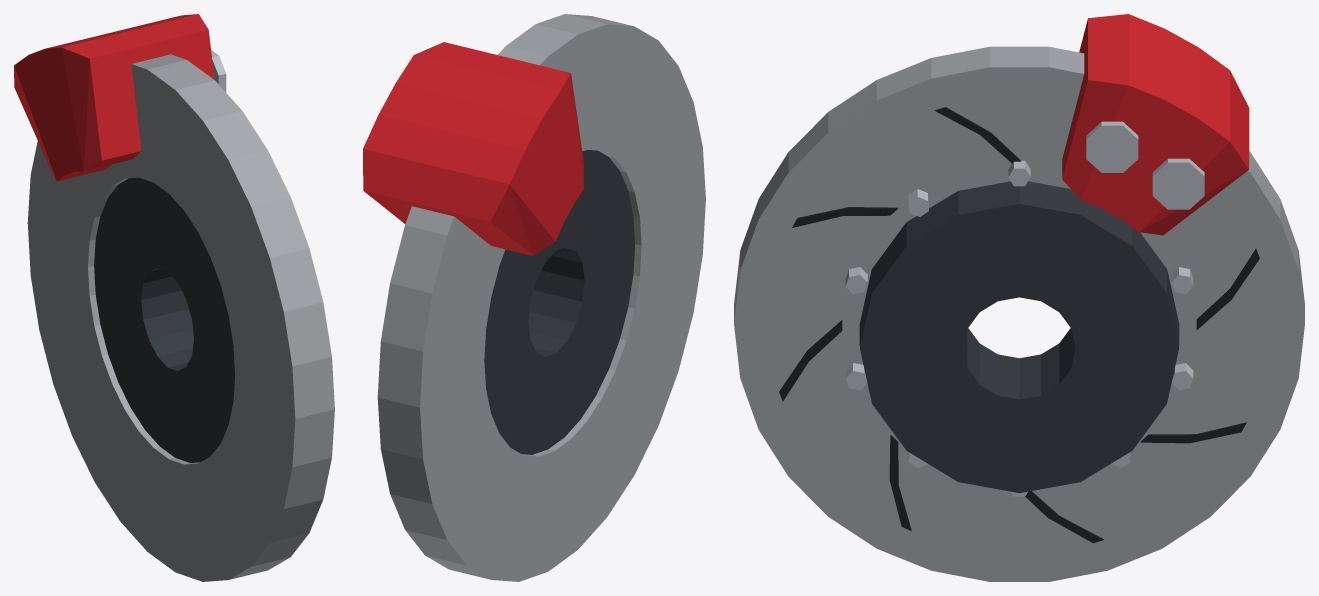
Rendered from brakes_street.glb.
The picture shows the model from 3 angles, left to right: view 1: azimuth 30°, elevation 25°; view 2: azimuth 150°, elevation 25°; view 3: azimuth 270°, elevation 25°; orthographic projection. The views are drawn at different scales.
Visible parts, largest first — view 1: model; view 2: model; view 3: model.
Boxes of the visible parts, bbox=[...] form: model: bbox=[14, 14, 334, 581]; model: bbox=[363, 14, 705, 581]; model: bbox=[734, 14, 1304, 581].
Size of the model in its own units: 0.095 by 0.307 by 0.304.
3 materials, 1 textured.
